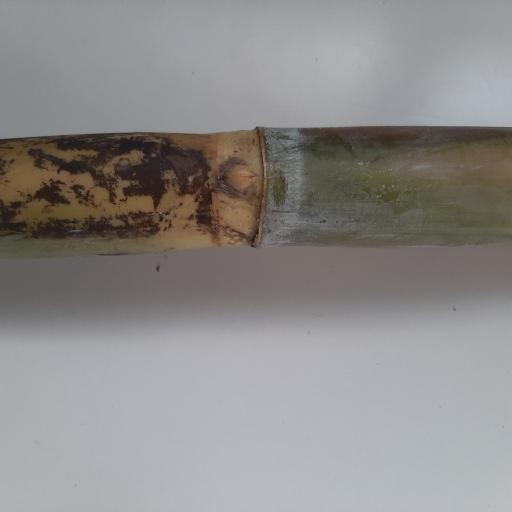Bud: (217, 161, 260, 193)
